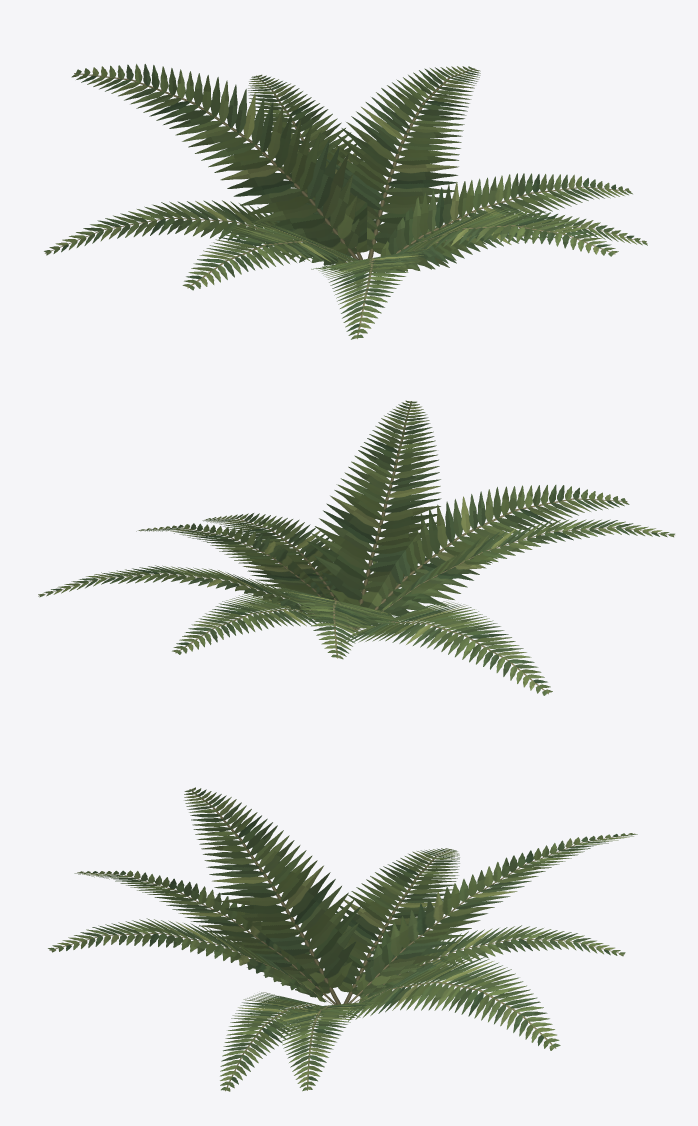
File: SM_Fern.fbx
3 renders of one model, top to bottom at view 1: azimuth 30°, elevation 25°; view 2: azimuth 150°, elevation 25°; view 3: azimuth 270°, elevation 25°, orthographic. The views are drawn at different scales.
Visible parts, largest first — view 1: SM_Fern; view 2: SM_Fern; view 3: SM_Fern.
Boxes of the visible parts, x1=… form: SM_Fern: x1=44, y1=64, x2=647, y2=339; SM_Fern: x1=38, y1=400, x2=674, y2=695; SM_Fern: x1=48, y1=787, x2=637, y2=1091.
Size of the model in its own units: 1.54 by 0.4214 by 1.61.
1 material, 1 textured.
